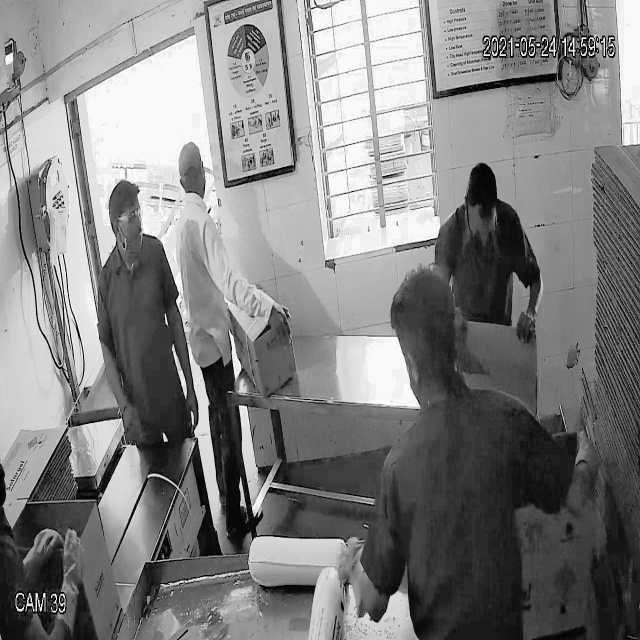Gafas: (106, 204, 145, 231)
